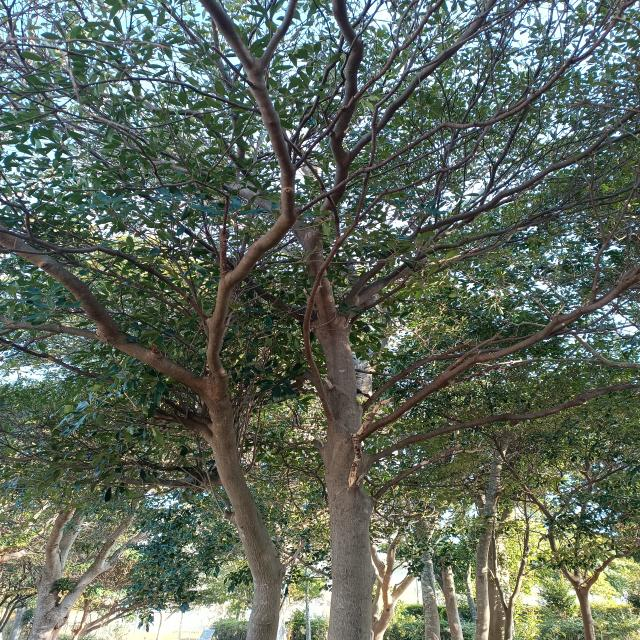Branch: (346, 105, 640, 299), (358, 268, 639, 442), (199, 0, 296, 379), (0, 224, 206, 399), (369, 383, 640, 463), (237, 182, 341, 318), (317, 0, 365, 219), (360, 236, 434, 303), (217, 229, 229, 271)
Twig: (302, 113, 500, 423), (352, 151, 640, 323), (299, 56, 577, 215), (6, 41, 265, 192), (294, 0, 442, 167), (387, 185, 633, 281), (353, 0, 499, 158), (1, 228, 206, 321), (0, 77, 259, 127), (355, 36, 421, 221), (31, 179, 229, 230), (411, 0, 530, 73), (578, 0, 635, 61), (262, 1, 299, 70), (577, 1, 618, 56), (30, 215, 93, 246), (571, 0, 602, 58), (0, 322, 98, 339), (0, 196, 34, 237)
